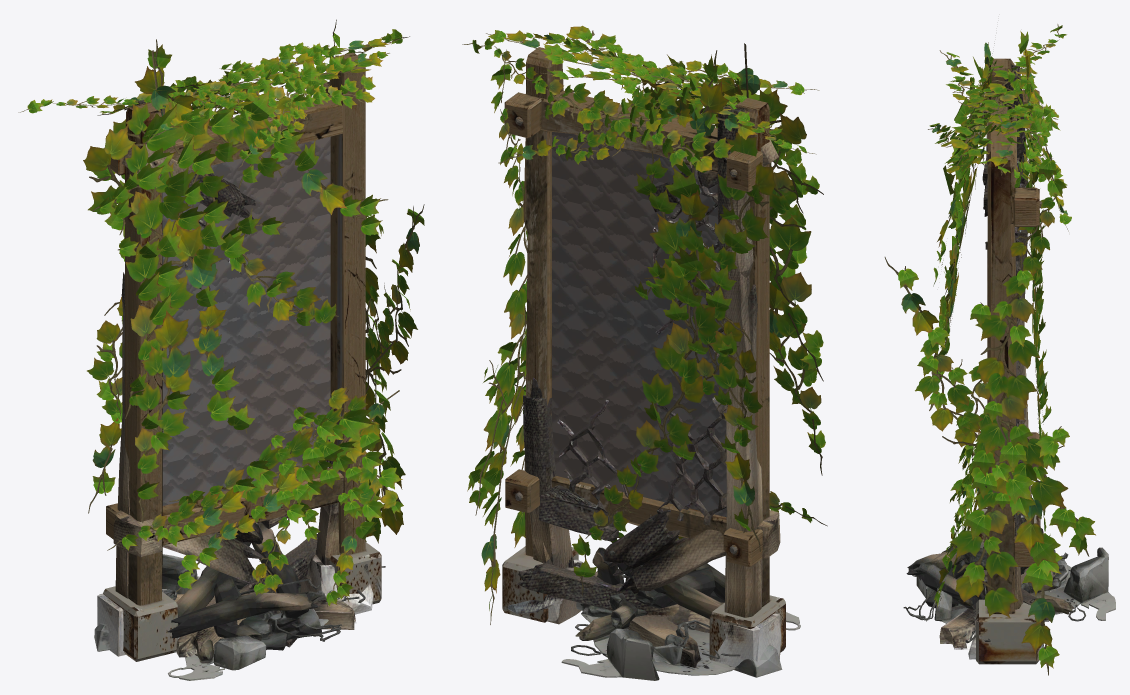
Rendered from P_Tripo03.obj.
The picture shows the model from 3 angles, left to right: view 1: azimuth 30°, elevation 25°; view 2: azimuth 150°, elevation 25°; view 3: azimuth 270°, elevation 25°; orthographic projection. The views are drawn at different scales.
Size of the model in its own units: 1.18 by 1.85 by 0.6998.
Materials: 13 (13 with a texture image).
